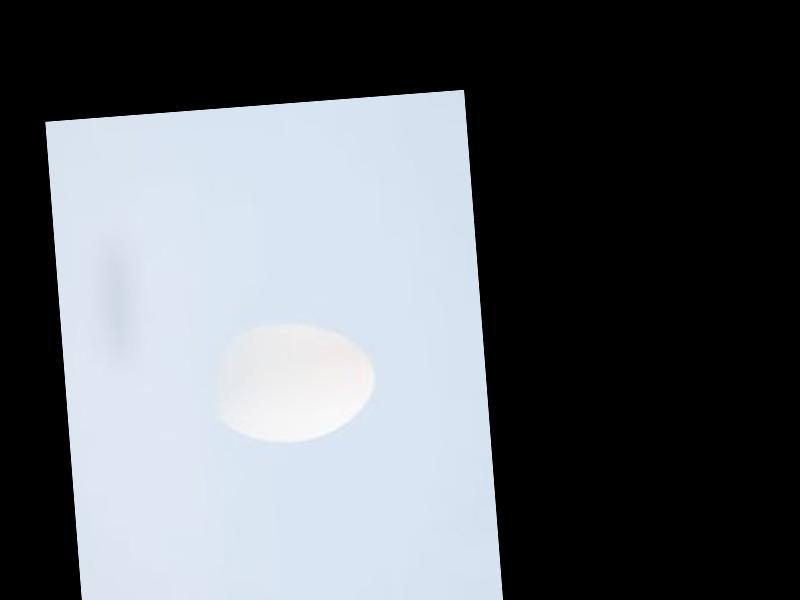Eggs: (203, 315, 379, 448)
